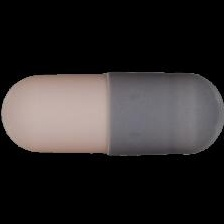0008-0837: (0, 0, 224, 224)
